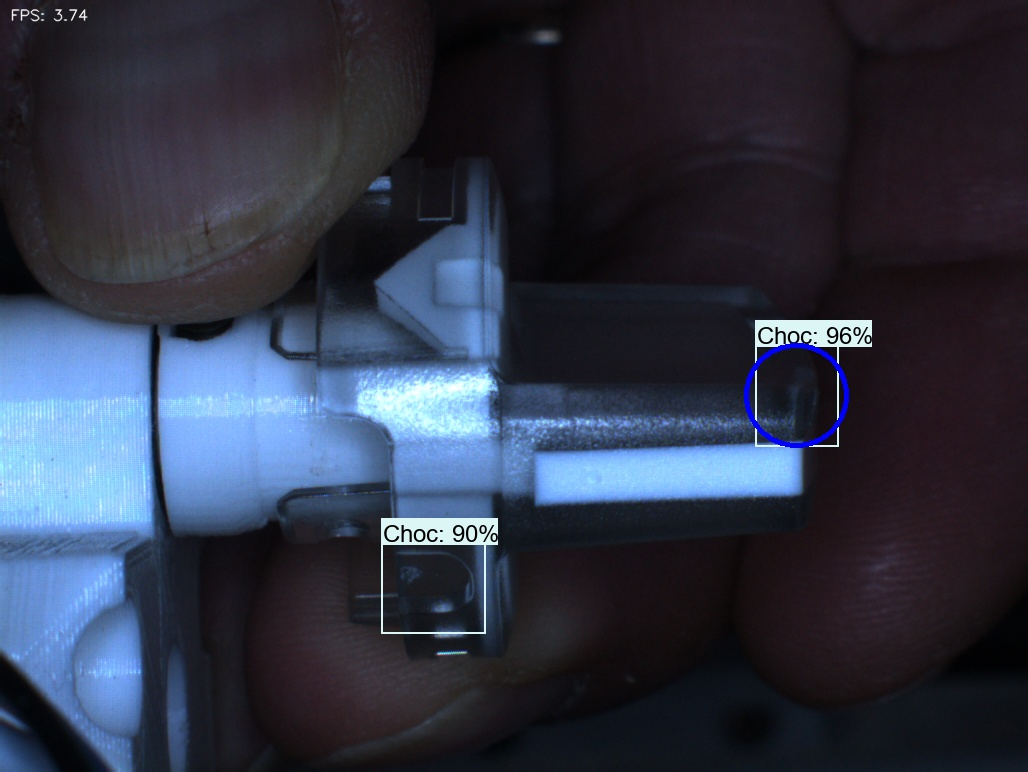DentOk: (343, 242, 425, 342)
